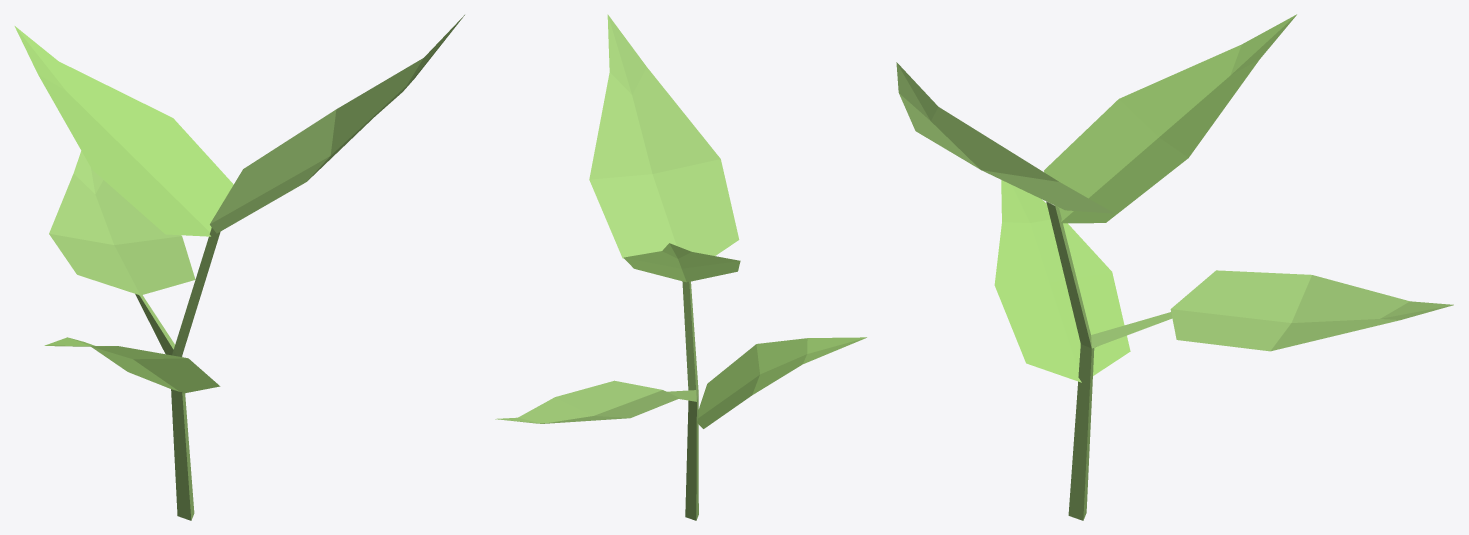
Rendered from Plant_f_TwoS_05.fbx.
The picture shows the model from 3 angles, left to right: view 1: azimuth 30°, elevation 25°; view 2: azimuth 150°, elevation 25°; view 3: azimuth 270°, elevation 25°; orthographic projection. The views are drawn at different scales.
Parts seen in each view (by area): view 1: Plant_f_TwoS_05; view 2: Plant_f_TwoS_05; view 3: Plant_f_TwoS_05.
Part boxes in pixels (left/top/right/bottom): Plant_f_TwoS_05: left=14, top=15, right=464, bottom=520; Plant_f_TwoS_05: left=495, top=14, right=866, bottom=520; Plant_f_TwoS_05: left=896, top=14, right=1453, bottom=520.
Bounding box in the file's own units: 45.56 × 60.53 × 55.14.
